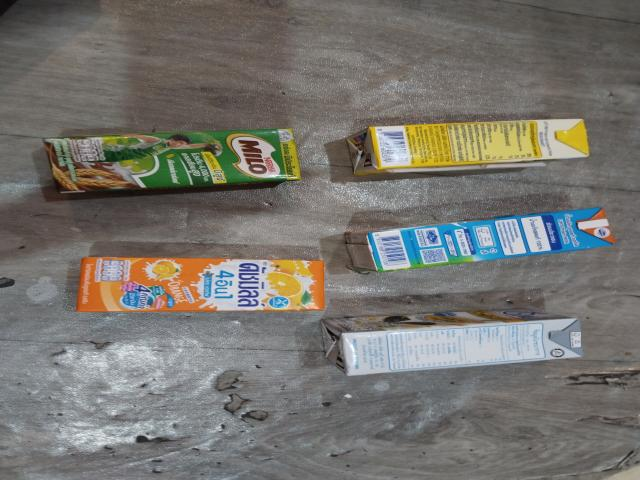drink_box: (339, 199, 634, 289), (70, 250, 331, 320), (318, 314, 609, 375), (38, 128, 311, 190), (348, 118, 600, 175)
